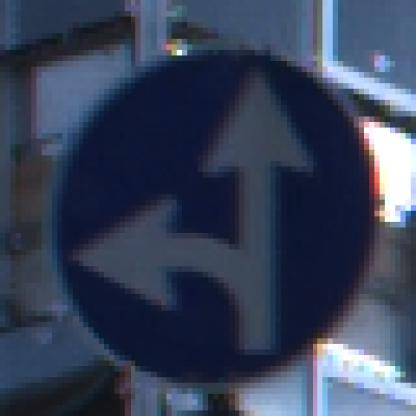Straight or Left: (38, 40, 376, 384)
